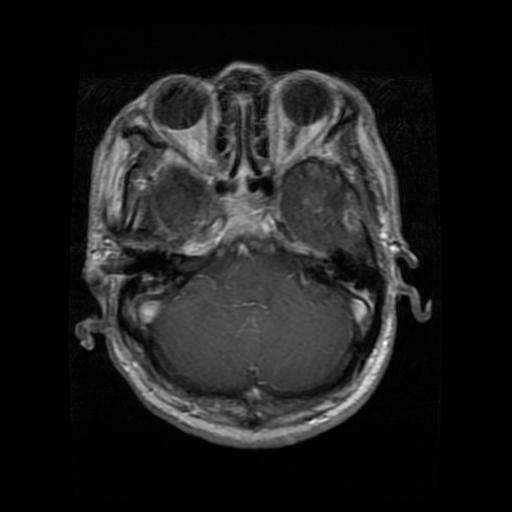Tumour-Glioma: (128, 237, 201, 332)
